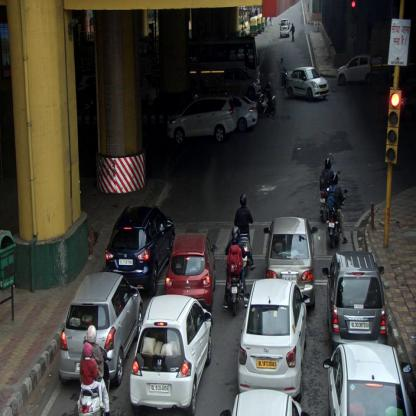bus: (187, 36, 261, 97)
car: (129, 294, 214, 414), (58, 271, 144, 387), (237, 278, 310, 398), (323, 342, 413, 416), (322, 251, 387, 344), (106, 206, 174, 294), (264, 216, 318, 309), (166, 233, 218, 308), (166, 99, 238, 142), (335, 52, 379, 86), (288, 66, 328, 102), (223, 94, 258, 132), (280, 19, 291, 38)
motorcycle: (78, 323, 110, 415), (224, 227, 246, 312), (326, 174, 350, 250), (235, 195, 258, 271), (318, 157, 336, 220), (255, 80, 278, 118)
